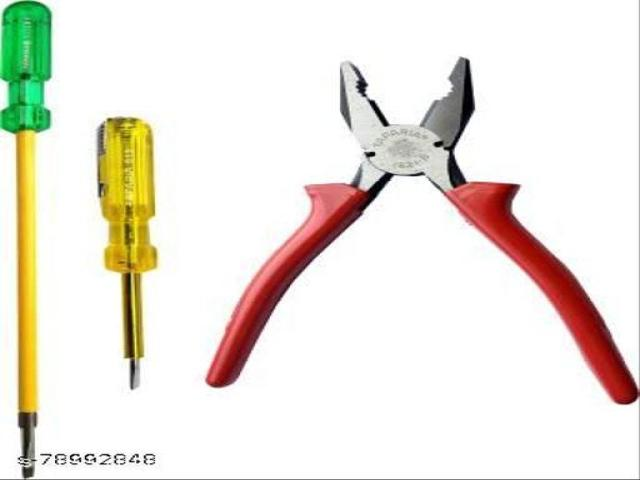Pliers: (208, 60, 638, 404)
Screwdriver: (0, 1, 51, 478), (98, 117, 156, 389)
